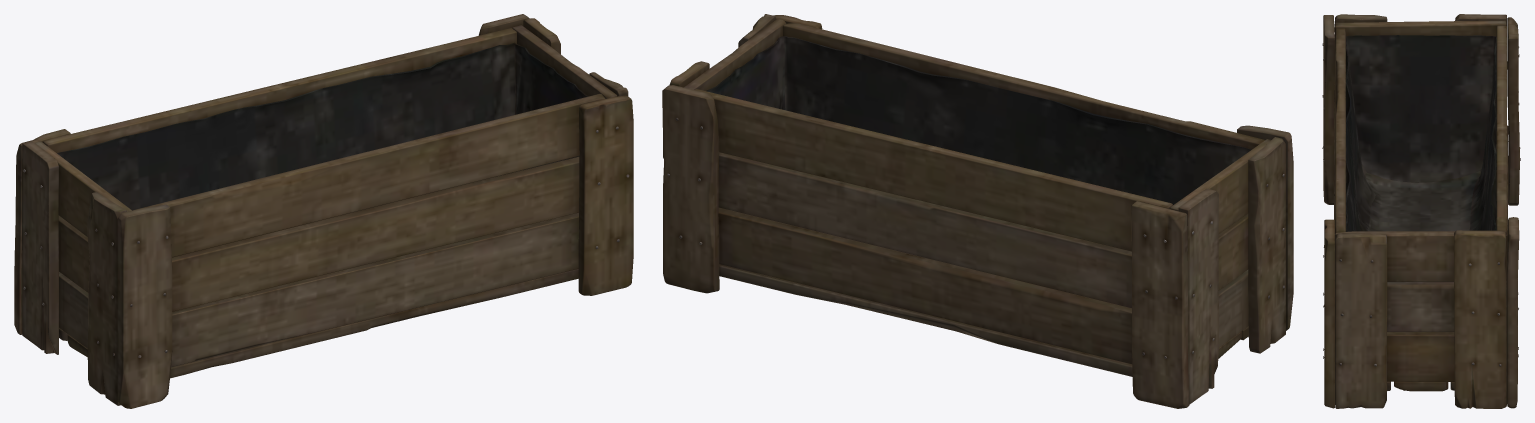
File: planter_box_02.glb
The picture shows the model from 3 angles, left to right: view 1: azimuth 30°, elevation 25°; view 2: azimuth 150°, elevation 25°; view 3: azimuth 270°, elevation 25°; orthographic projection. The views are drawn at different scales.
Visible parts, largest first — view 1: planter_box_02; view 2: planter_box_02; view 3: planter_box_02.
Boxes of the visible parts, bbox=[...] form: planter_box_02: bbox=[14, 14, 633, 408]; planter_box_02: bbox=[662, 14, 1293, 408]; planter_box_02: bbox=[1322, 14, 1520, 408].
Size of the model in its own units: 1.25 by 0.4534 by 0.4673.
Materials: 1 (1 with a texture image).
